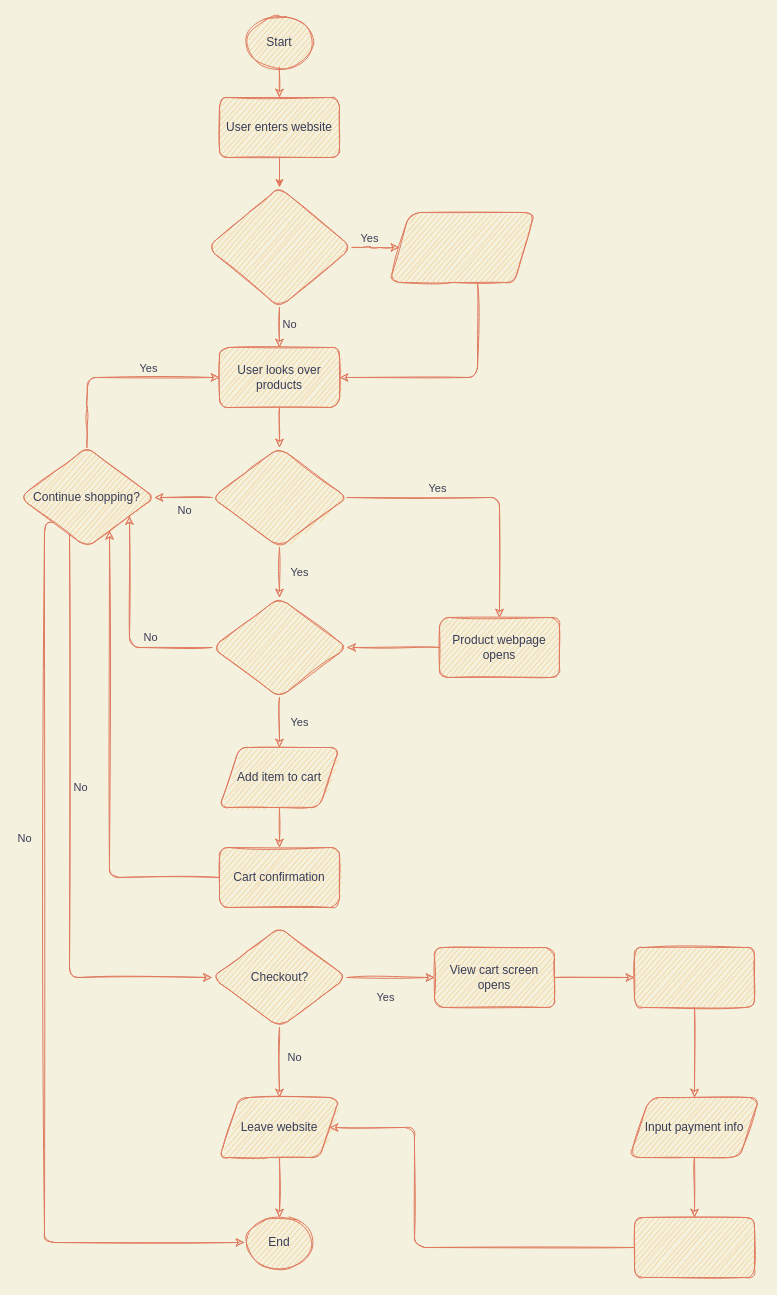
Image size: 777x1295. Some labels were removed from this diagram. The shapes that lost their labels are listed below. From the top down, each one's centre as x and y in pixels, then its label:
At pixel 279 247: "Search for product?".
At pixel 461 247: "Input search query".
At pixel 279 497: "View product?".
At pixel 279 647: "Add item to cart?".
At pixel 694 977: "View payment screen opens".
At pixel 694 1247: "Order confirmation screen opens, email sends".
